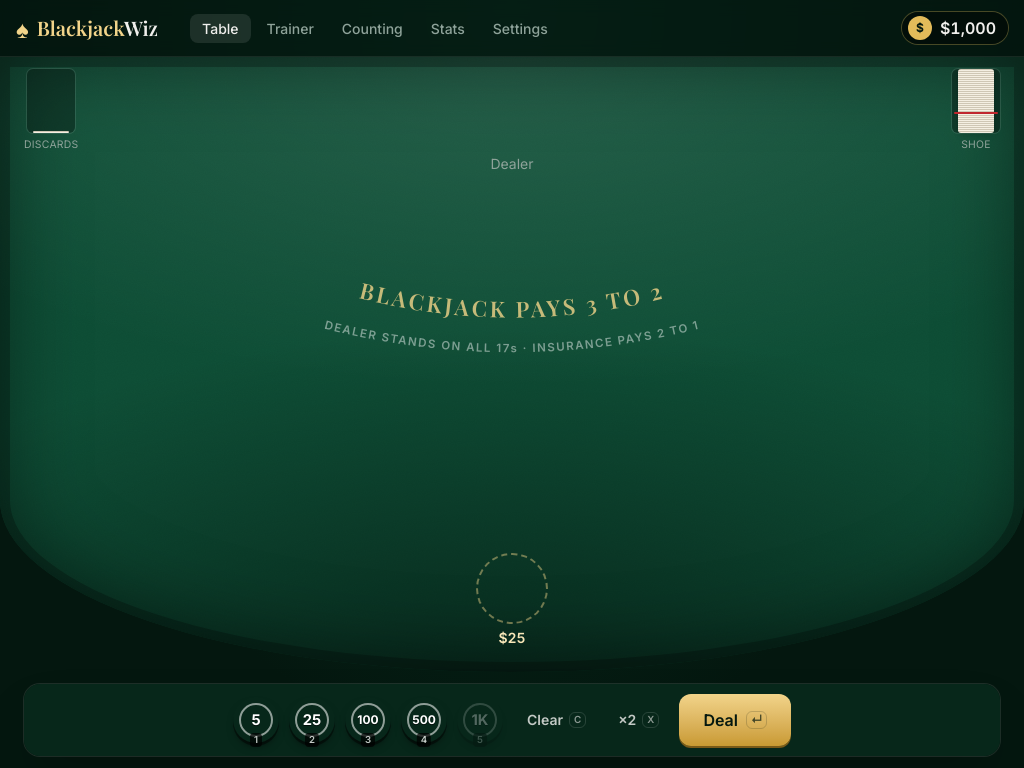
Scenario: table › shows a clear error under the table minimum
Click the button "Clear C" at [557, 720], box [515,704,598,736]
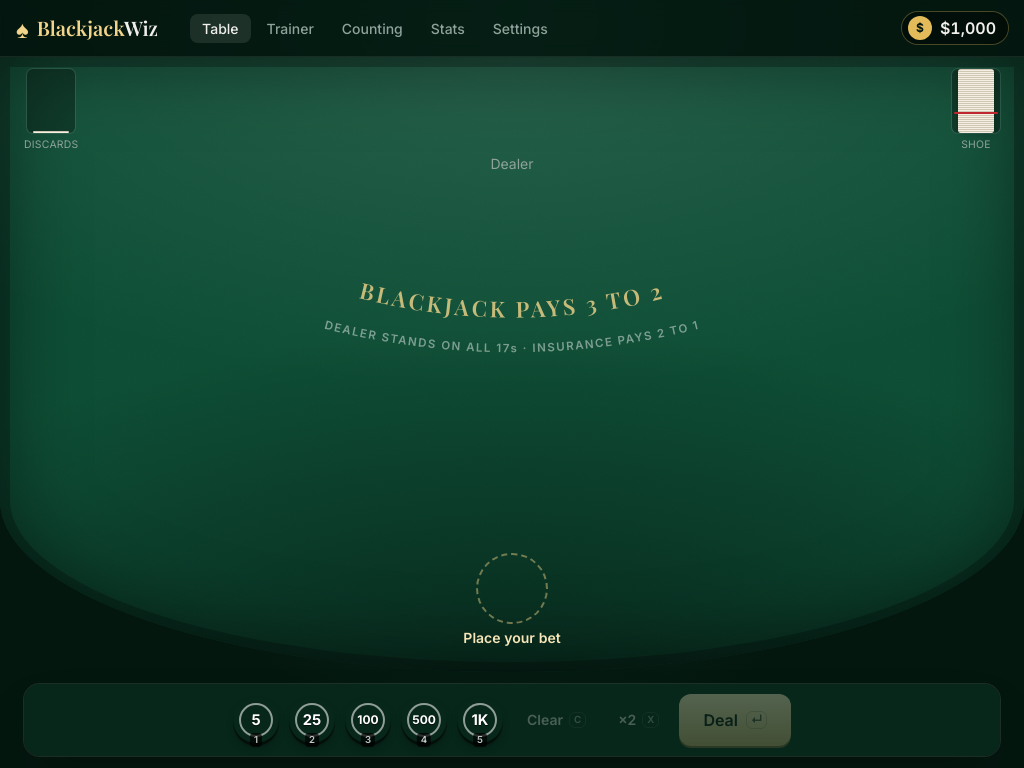
Click the button named "Add $5" at [256, 720], box [233,697,279,743]
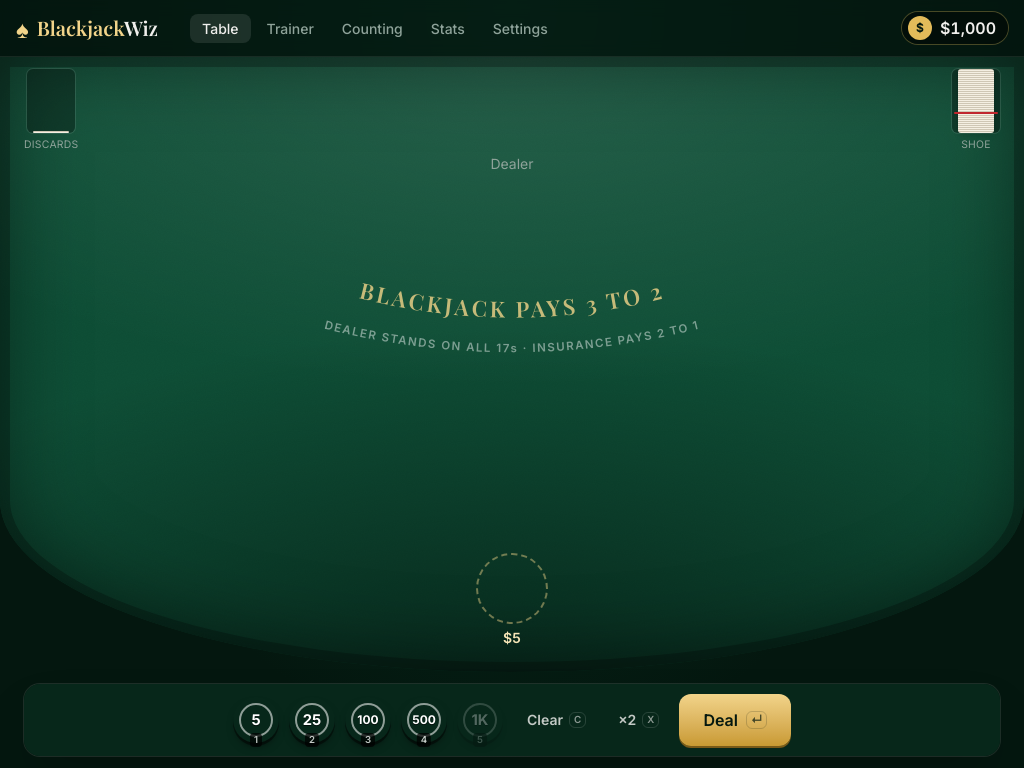
Press Enter
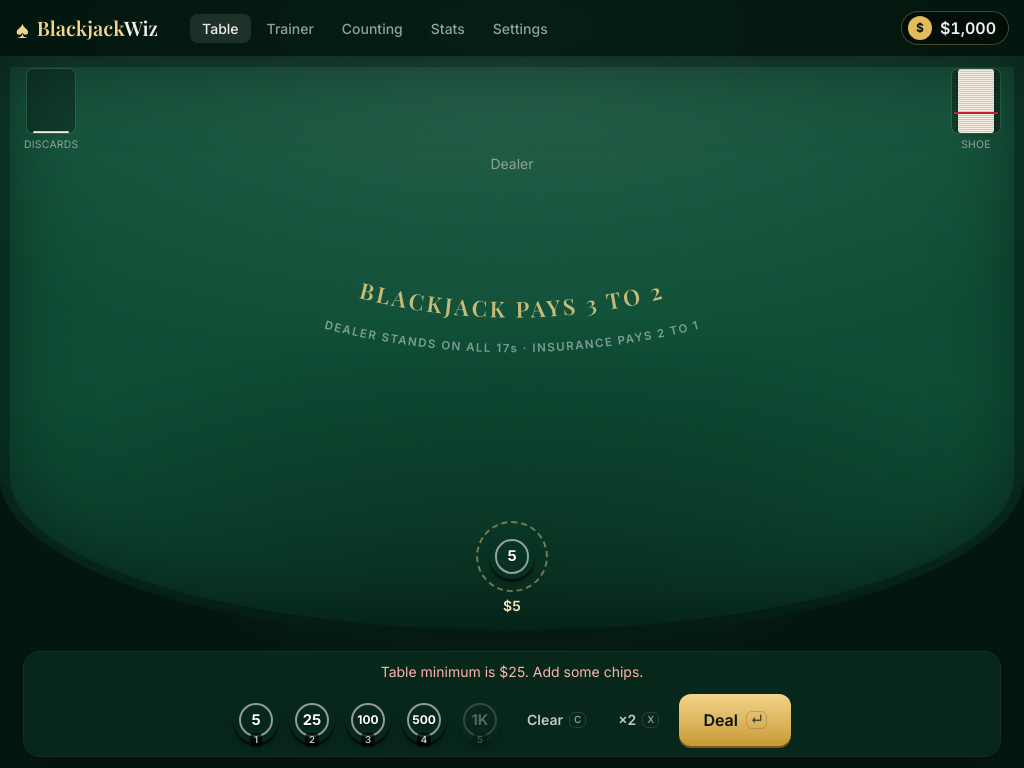
Result: the message reads "Table minimum is $25. Add some chips." at [381,663,643,680]
